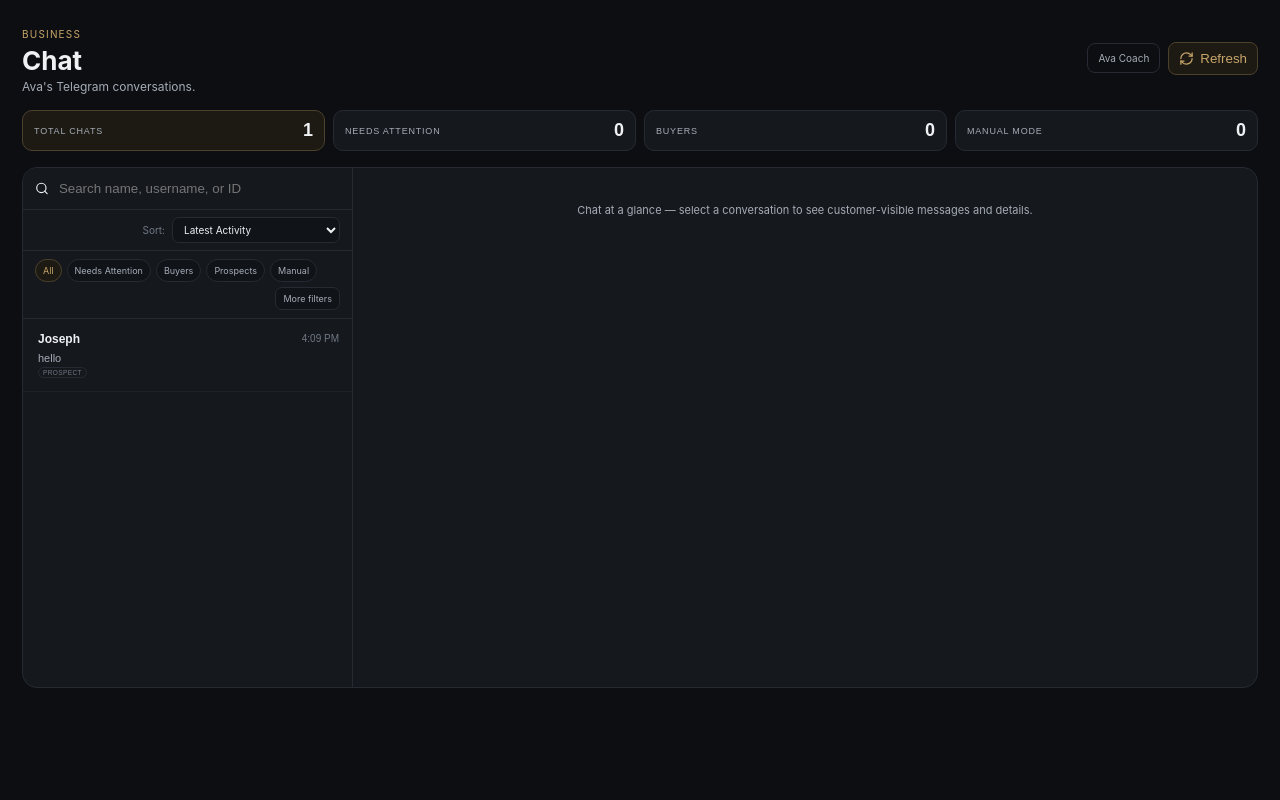
Scenario: PPV Escalation intelligence › renders backend stage READY_TO_OFFER verbatim
Click the button "Joseph hello PROSPECT 4:09 PM". click: (59, 339)
box: [23,319,352,392]
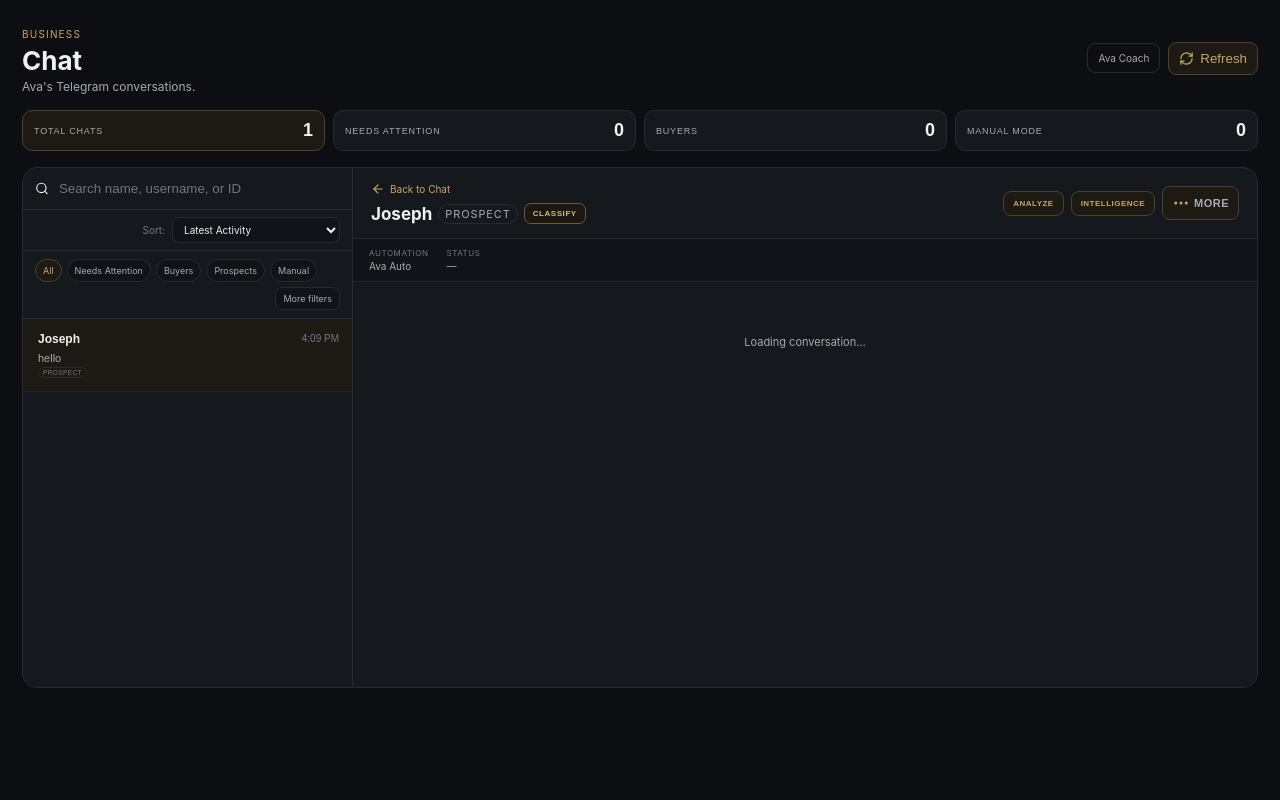
Click the button with aria-label "Open Customer Intelligence". click: (1113, 203)
box: [1071,190,1155,216]
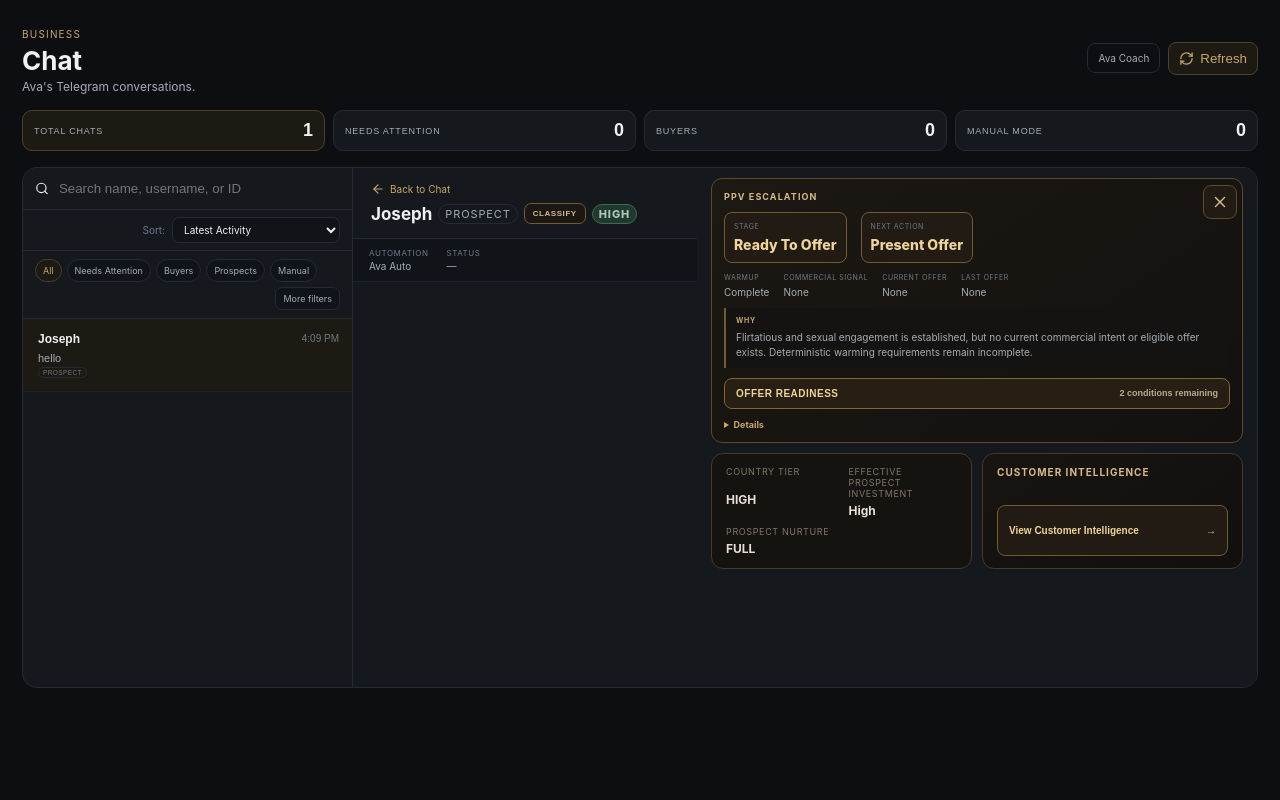
Check: the element named "Customer Intelligence" is shown, box [827,168,1257,687]
Check: the element "PPV Escalation" shows "Ready To Offer", box [734,236,837,253]
